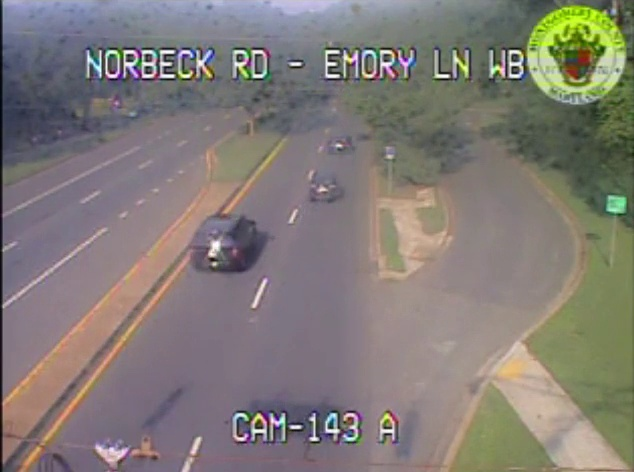car: (192, 216, 254, 268), (309, 177, 334, 199)
